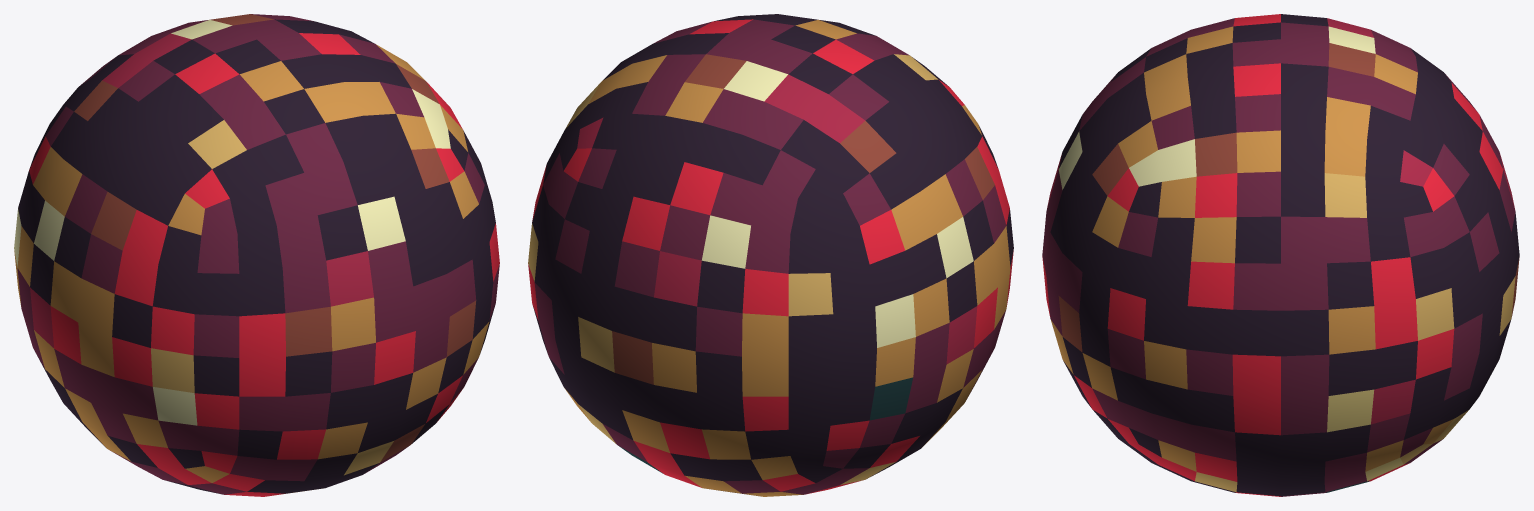
Rendered from anim_test_ball.glb.
The picture shows the model from 3 angles, left to right: view 1: azimuth 30°, elevation 25°; view 2: azimuth 150°, elevation 25°; view 3: azimuth 270°, elevation 25°; orthographic projection.
Parts seen in each view (by area): view 1: Cube; view 2: Cube; view 3: Cube.
Boxes of the visible parts, x1,y1,x2,y2 form: Cube: (14, 14, 499, 496); Cube: (528, 14, 1013, 496); Cube: (1042, 14, 1519, 496).
Bounding box in the file's own units: 1.68 × 1.68 × 1.68.
1 material, 1 textured.
